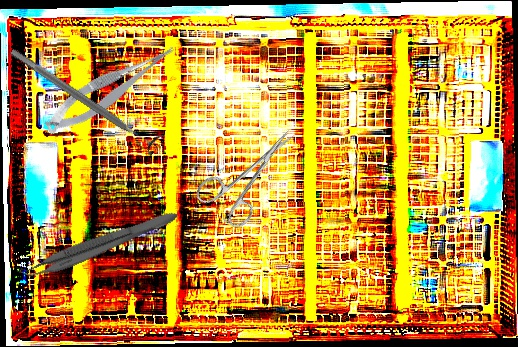Fixation Ring: (4, 39, 166, 158)
Iris Scissors: (191, 112, 315, 236)
Micro Scissor: (37, 40, 185, 139)
Tissue Forceps: (14, 200, 180, 288)
